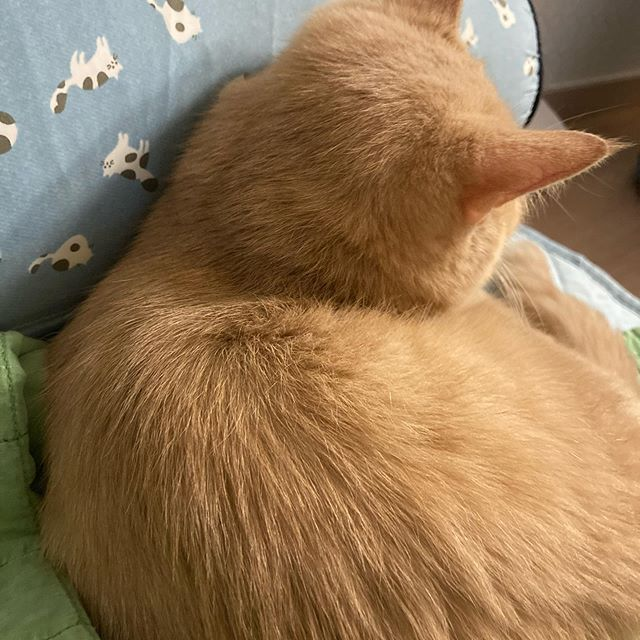cat: (241, 1, 613, 310)
